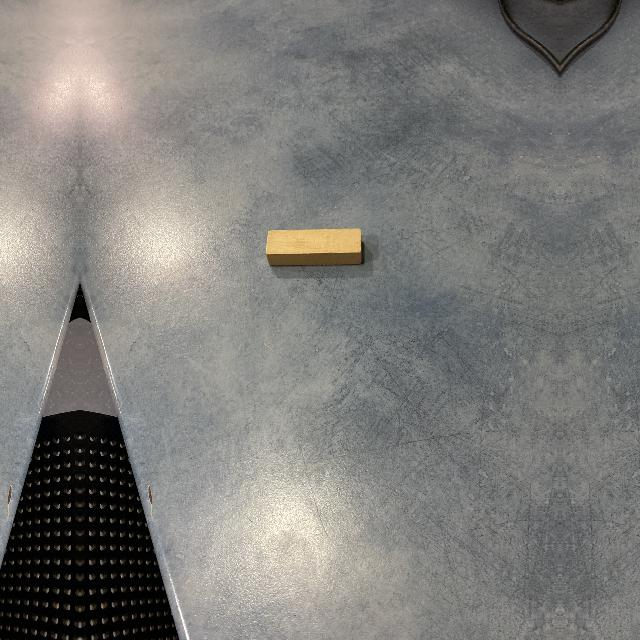jenga: (266, 229, 361, 266)
